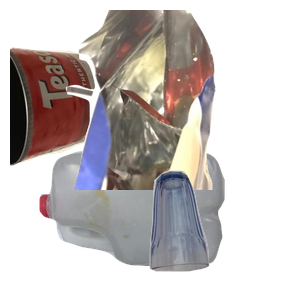glass: (147, 168, 300, 300)
metal: (10, 44, 151, 203)
plastic: (37, 147, 254, 300)
trash: (63, 10, 300, 190)
